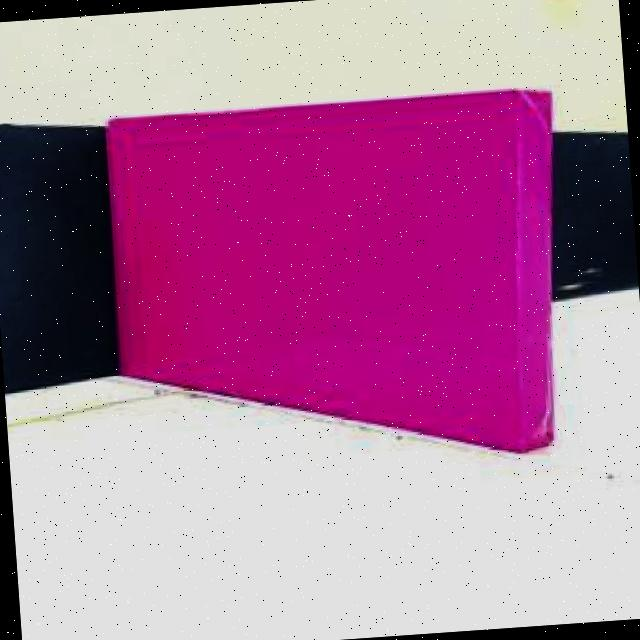xparking: (107, 97, 550, 450)
